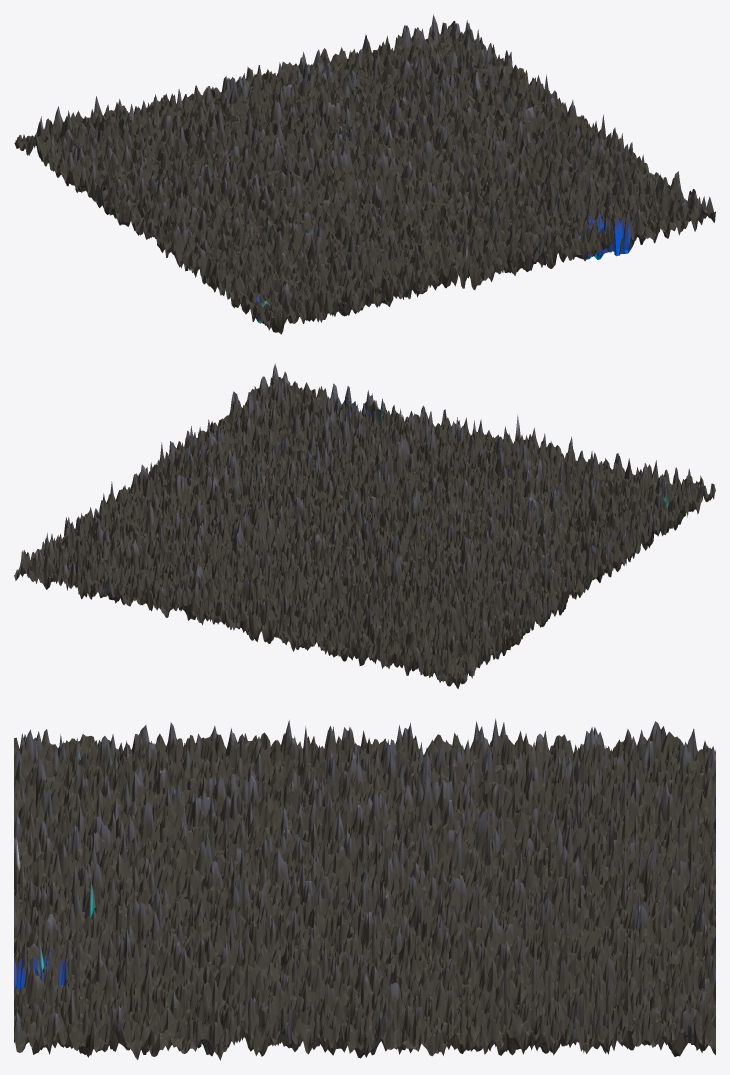
File: terrain_Sheep.obj
3 renders of one model, top to bottom at view 1: azimuth 30°, elevation 25°; view 2: azimuth 150°, elevation 25°; view 3: azimuth 270°, elevation 25°, orthographic. The views are drawn at different scales.
Parts seen in each view (by area): view 1: Sheep; view 2: Sheep; view 3: Sheep.
Boxes of the visible parts, bbox=[...] form: Sheep: bbox=[14, 14, 715, 334]; Sheep: bbox=[14, 363, 715, 688]; Sheep: bbox=[14, 718, 715, 1060].
Size of the model in its own units: 255 by 29.81 by 255.
Materials: 1 (1 with a texture image).
